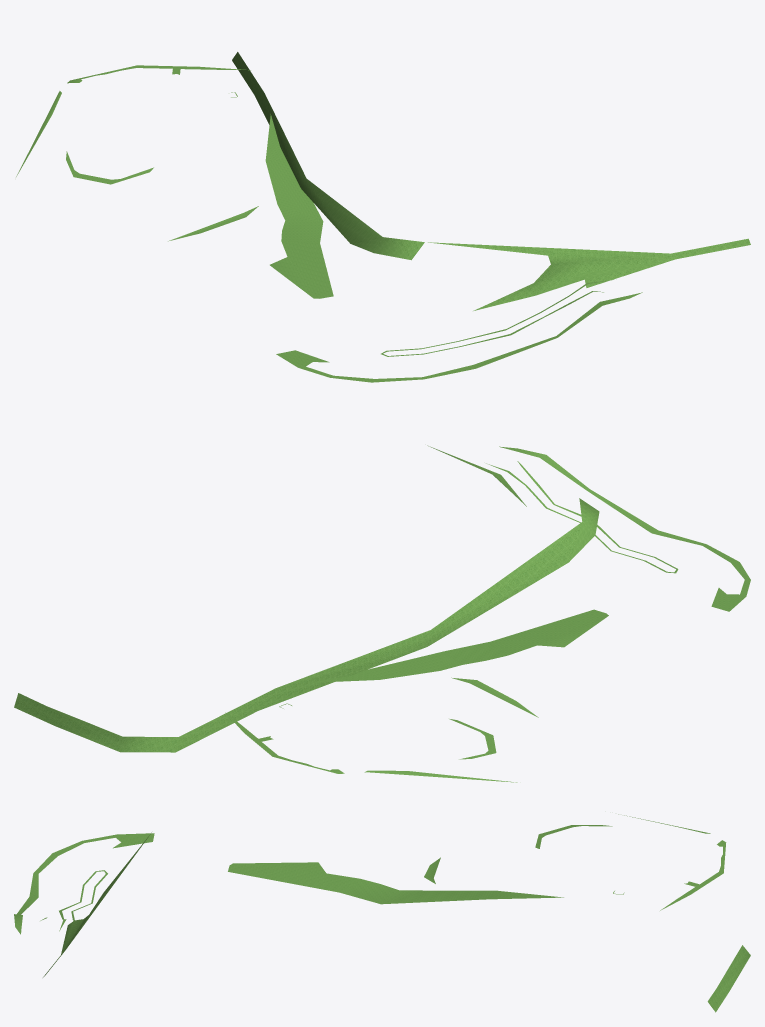
File: kd_stage_1364a3_7_6_bounded.glb
The picture shows the model from 3 angles, top to bottom: view 1: azimuth 30°, elevation 25°; view 2: azimuth 150°, elevation 25°; view 3: azimuth 270°, elevation 25°; orthographic projection. The views are drawn at different scales.
Parts seen in each view (by area): view 1: kd_stage_1364a3_7_6_bounded; view 2: kd_stage_1364a3_7_6_bounded; view 3: kd_stage_1364a3_7_6_bounded.
Part boxes in pixels (x1,y1,x2,y2): kd_stage_1364a3_7_6_bounded: (16, 52, 750, 382); kd_stage_1364a3_7_6_bounded: (14, 445, 750, 782); kd_stage_1364a3_7_6_bounded: (14, 814, 750, 1012).
Size of the model in its own units: 210 by 36.93 by 312.
1 material, 1 textured.
